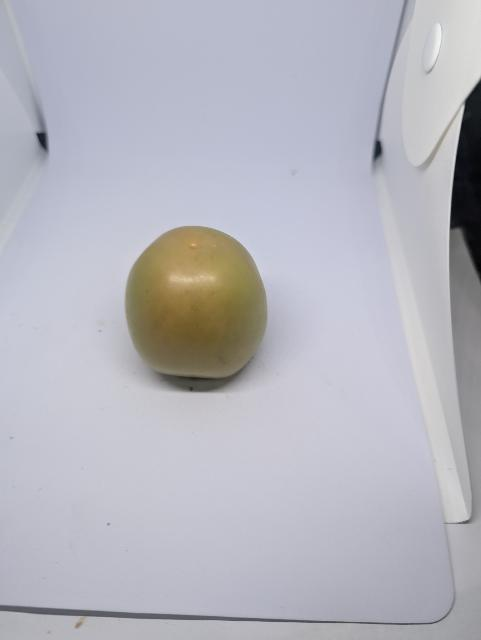breaker: (125, 226, 268, 378)
